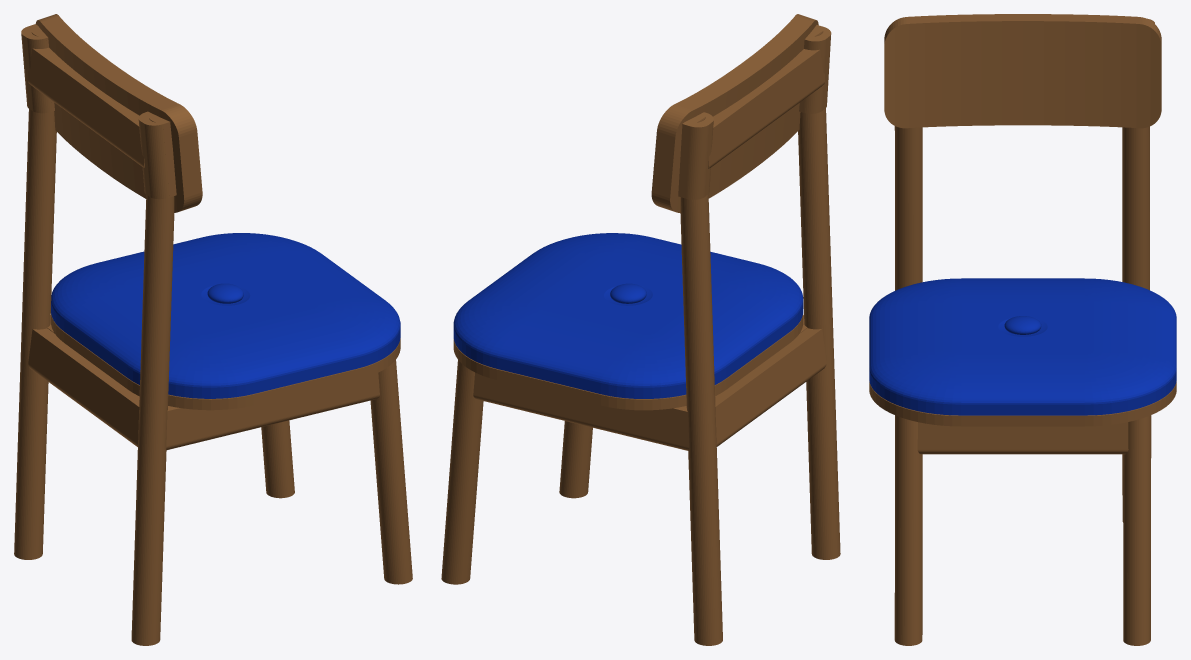
File: chair.glb
3 renders of one model, left to right at view 1: azimuth 30°, elevation 25°; view 2: azimuth 150°, elevation 25°; view 3: azimuth 270°, elevation 25°, orthographic. The views are drawn at different scales.
Parts seen in each view (by area): view 1: Mesh_Mesh_head_geo001_lambert2SG001; view 2: Mesh_Mesh_head_geo001_lambert2SG001; view 3: Mesh_Mesh_head_geo001_lambert2SG001.
Boxes of the visible parts, box(x1,y1,x2,y2) form: Mesh_Mesh_head_geo001_lambert2SG001: box(14, 14, 412, 645); Mesh_Mesh_head_geo001_lambert2SG001: box(441, 14, 840, 645); Mesh_Mesh_head_geo001_lambert2SG001: box(869, 14, 1176, 645).
Size of the model in its own units: 113 by 204 by 111.
